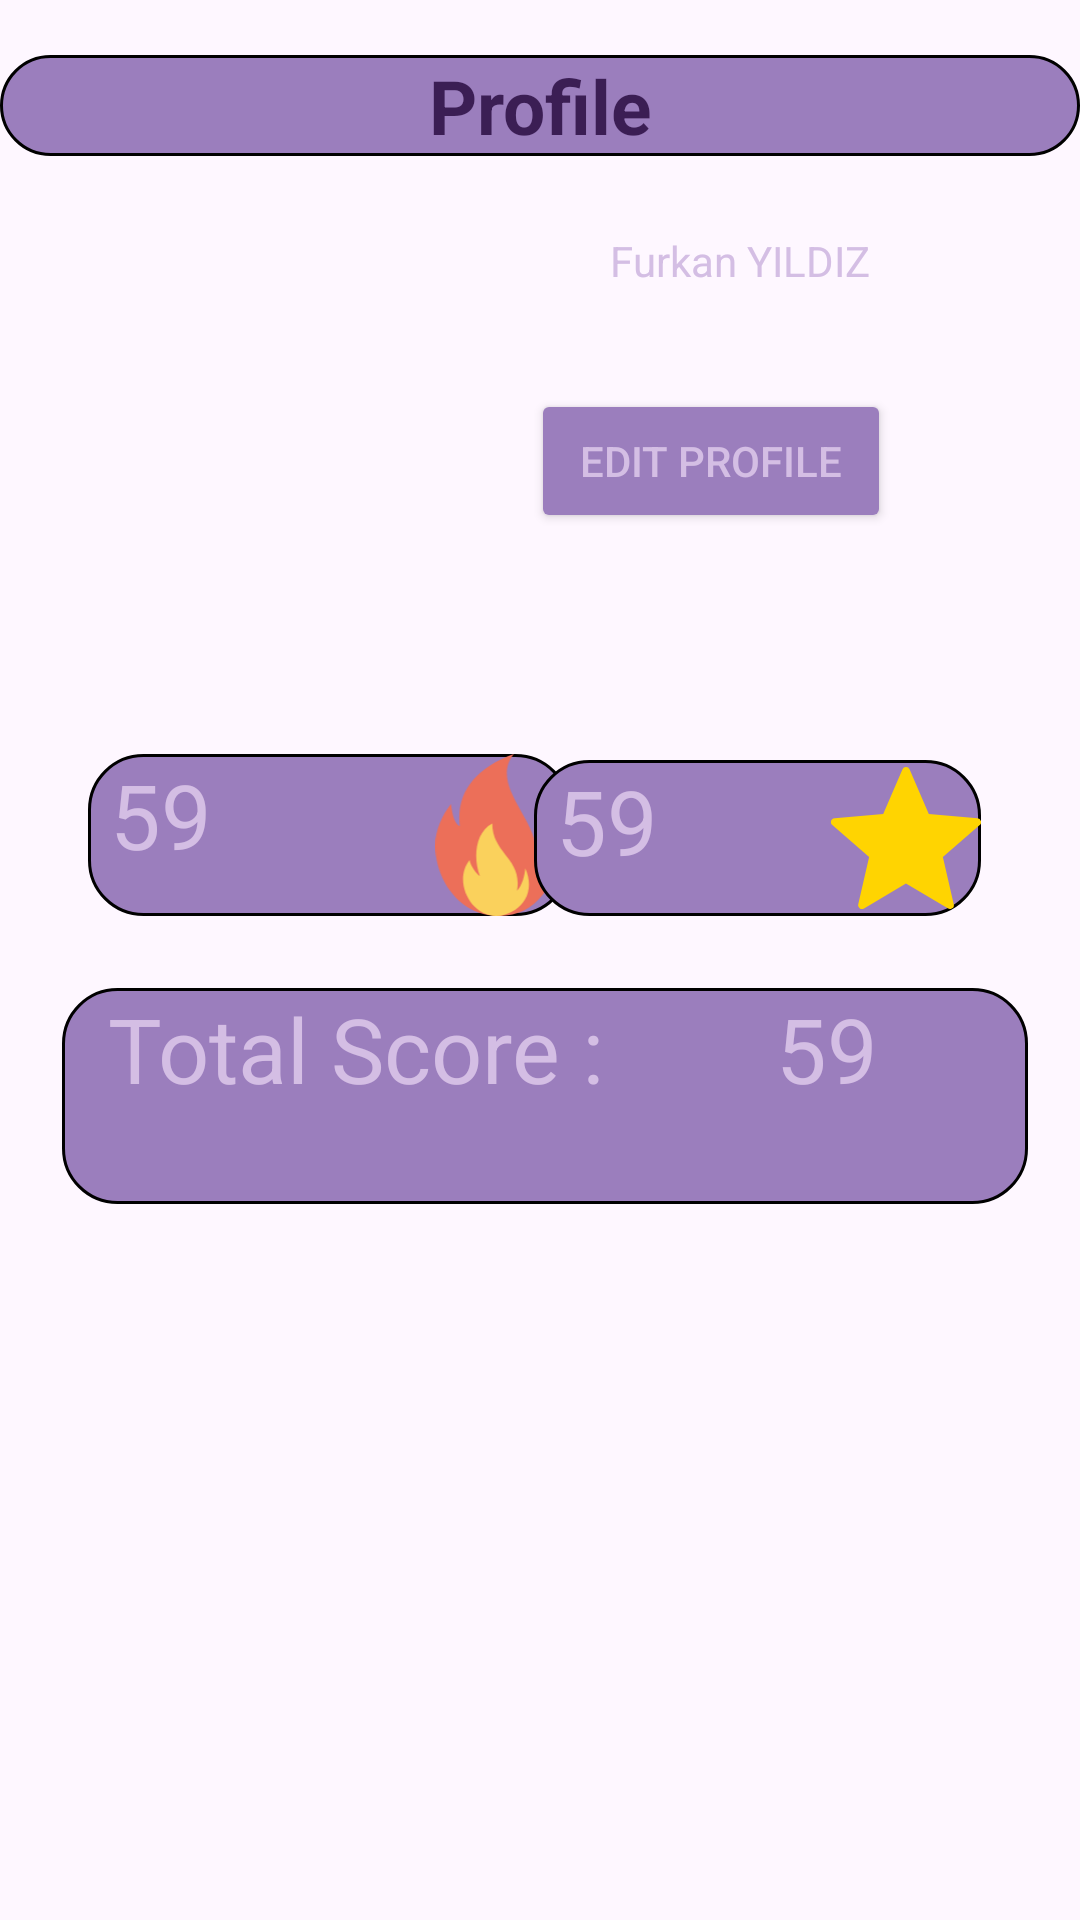

Icons on this 1080x1920 Android screen, each with the point to tap as point (x, y):
flame: point (496, 835)
star symbol: point (906, 838)
